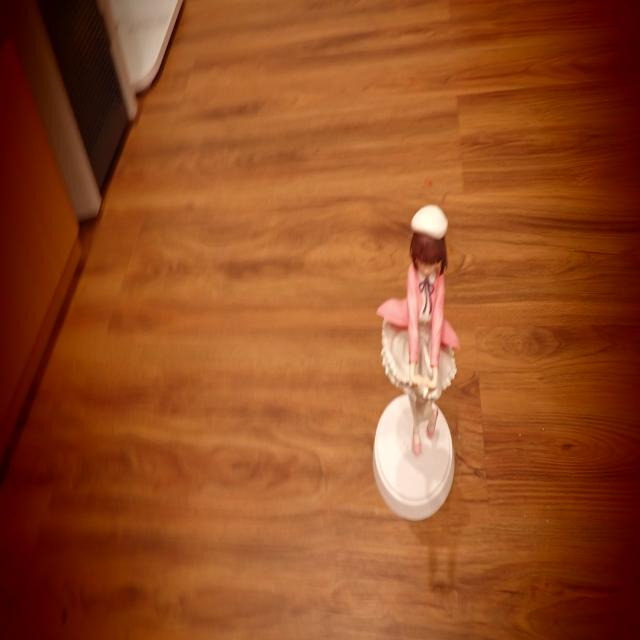My-pink-anime-figure: (378, 206, 459, 455)
